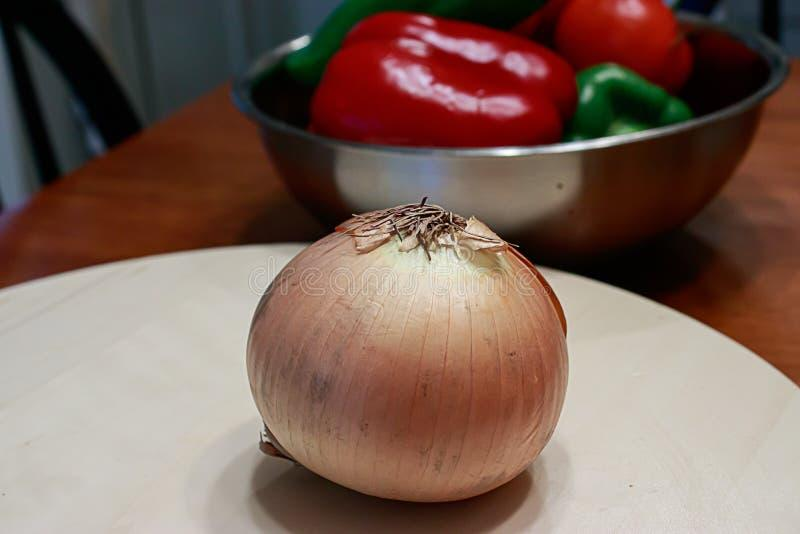Capsicum: (310, 12, 576, 146), (556, 0, 692, 140)
Onion: (247, 200, 567, 501)
